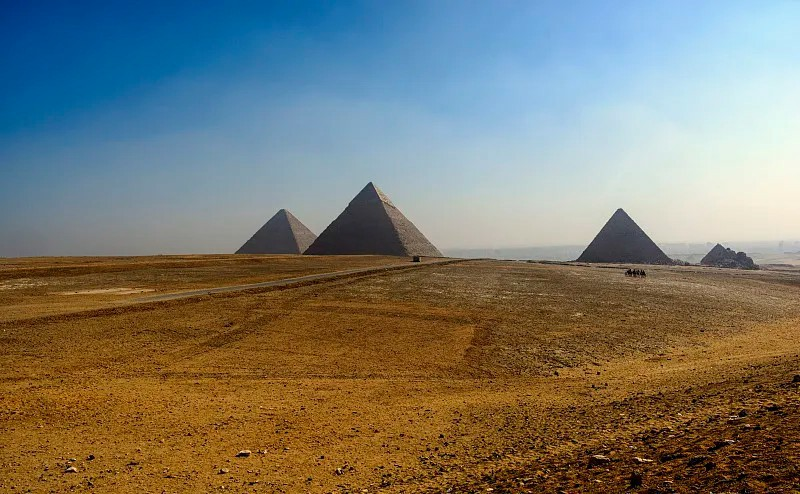Pyramid: (301, 183, 444, 257), (575, 209, 675, 267), (235, 210, 317, 255)
